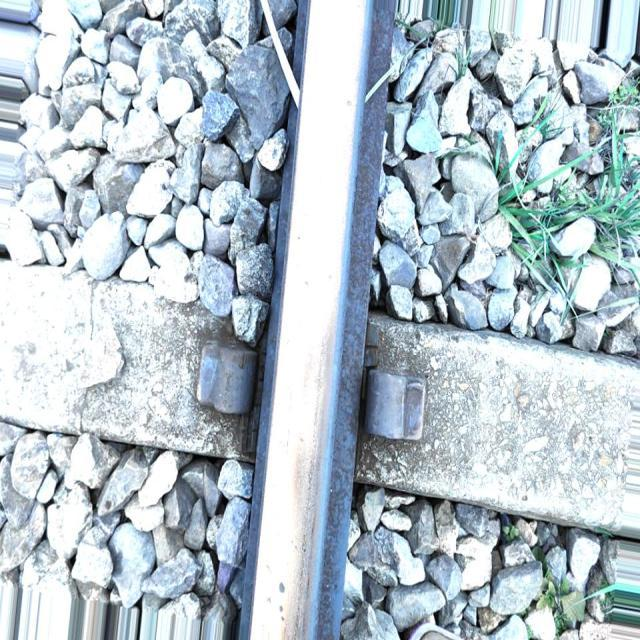Missing Fastener: (370, 352, 442, 485), (178, 335, 263, 434)
